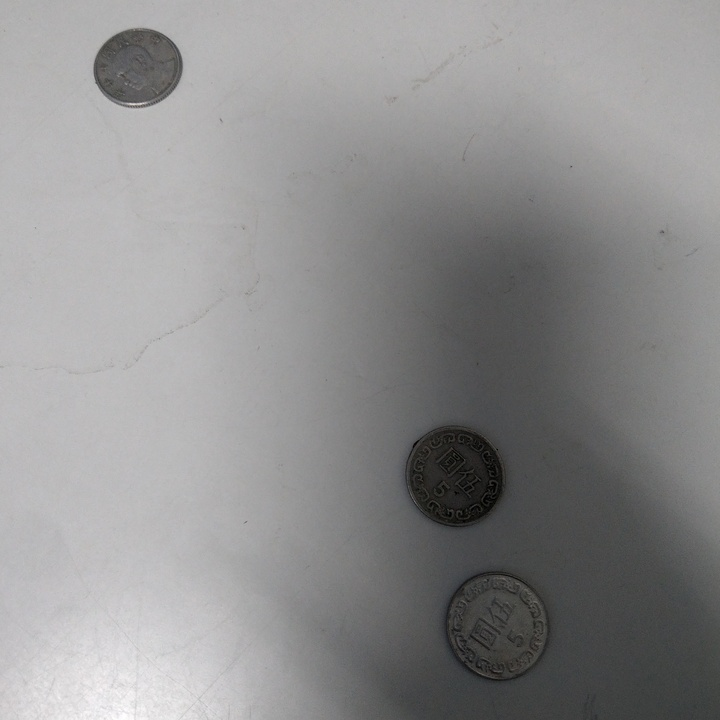5 dollar: (442, 572, 553, 685), (405, 423, 508, 530), (88, 28, 183, 109)
